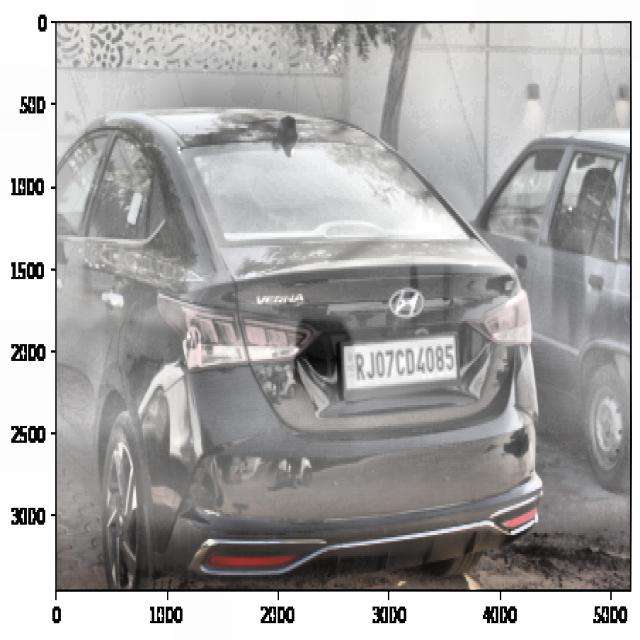license_plate: (346, 334, 459, 388)
